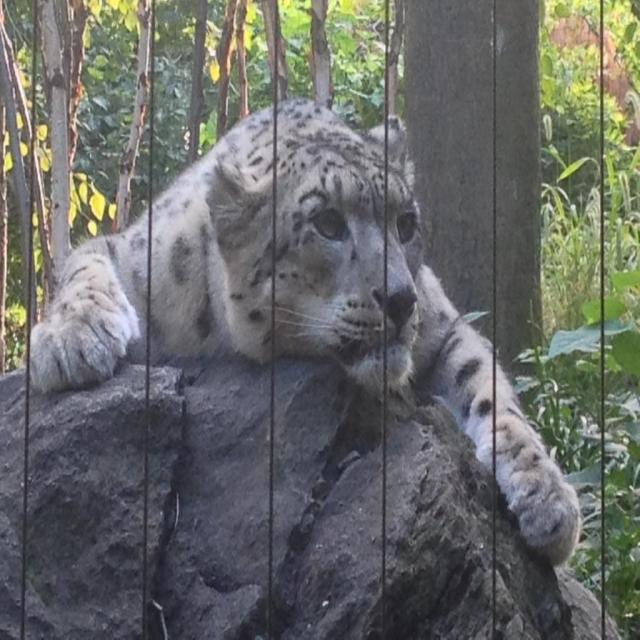Cheetah: (21, 71, 584, 568)
